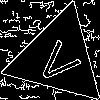V: (32, 32, 89, 89)
